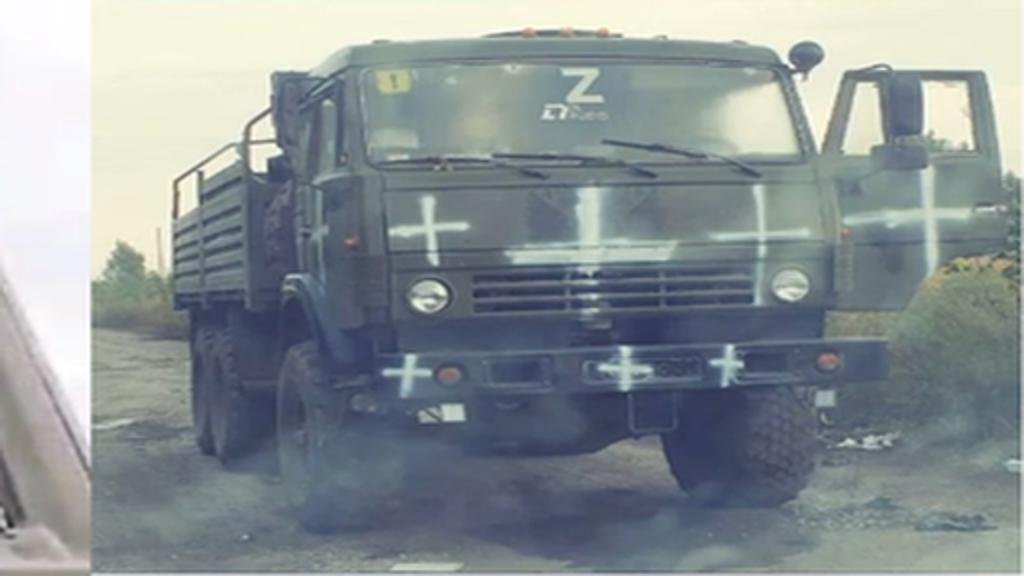TRUCK: (164, 30, 1010, 534)
